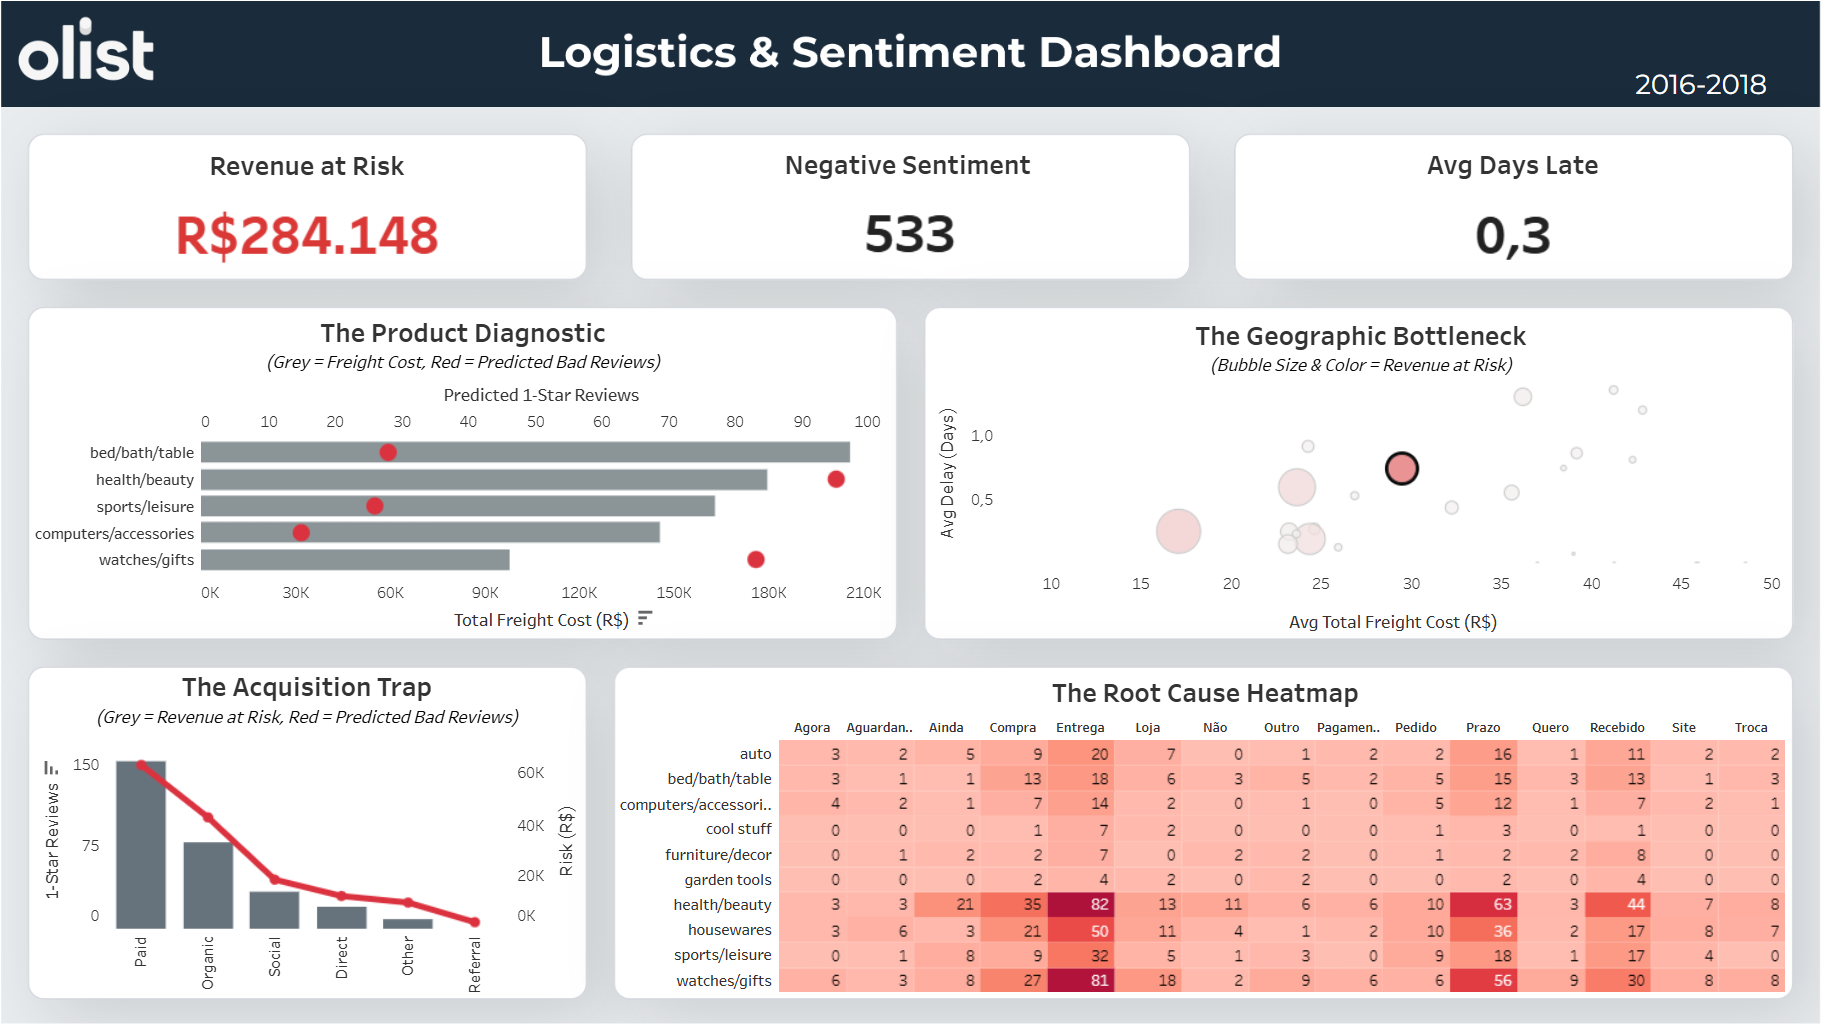

Layout of this report page (visuals, bound fields, positions):
{"tool":"tableau","page":{"name":"Final Dashboard","canvas":[1366,768],"ordinal":0},"visuals":[{"type":"image","param":"Image/Your paragraph text.png","box":[8,8,1350,752]},{"type":"text","box":[1210,58,129,31]},{"type":"worksheet","title":"Total Critical Failures","mark":"Automatic","box":[479,109,406,105]},{"type":"worksheet","title":"Average Logistical Delay","mark":"Automatic","box":[919,110,404,103]},{"type":"worksheet","title":"Revenue at Risk","mark":"Automatic","box":[42,112,404,101]},{"type":"text","box":[42,235,631,53]},{"type":"text","box":[695,237,631,53]},{"type":"worksheet","title":"The Product Diagnostic","mark":"Bar","rows":["primary_product_category"],"cols":["total_freight_cost","predicted_bad"],"box":[43,288,619,188]},{"type":"worksheet","title":"The Geographic Conflict","mark":"Circle","rows":["capped_delay_days"],"cols":["total_freight_cost"],"box":[694,291,625,186]},{"type":"text","box":[469,498,857,32]},{"type":"text","box":[43,500,402,61]},{"type":"worksheet","title":"The Root Cause Heatmap","mark":"Square","rows":["primary_product_category"],"box":[467,530,852,203]},{"type":"worksheet","title":"The Acquisition Trap","mark":"Automatic","rows":["predicted_bad","revenue_at_risk"],"box":[43,559,403,178]}]}

Visuals, with their boxes in screenshot pixels (x1, y1, x2, y2), scaled from the page's 1366x768 canvas onto the 1821x1027 screenshot:
image: {"left": 11, "top": 11, "right": 1810, "bottom": 1016}
text: {"left": 1613, "top": 78, "right": 1785, "bottom": 119}
"Total Critical Failures" worksheet: {"left": 639, "top": 146, "right": 1180, "bottom": 286}
"Average Logistical Delay" worksheet: {"left": 1225, "top": 147, "right": 1764, "bottom": 285}
"Revenue at Risk" worksheet: {"left": 56, "top": 150, "right": 595, "bottom": 285}
text: {"left": 56, "top": 314, "right": 897, "bottom": 385}
text: {"left": 926, "top": 317, "right": 1768, "bottom": 388}
"The Product Diagnostic" worksheet (Bar marks): {"left": 57, "top": 385, "right": 883, "bottom": 637}
"The Geographic Conflict" worksheet (Circle marks): {"left": 925, "top": 389, "right": 1758, "bottom": 638}
text: {"left": 625, "top": 666, "right": 1768, "bottom": 709}
text: {"left": 57, "top": 669, "right": 593, "bottom": 750}
"The Root Cause Heatmap" worksheet (Square marks): {"left": 623, "top": 709, "right": 1758, "bottom": 980}
"The Acquisition Trap" worksheet: {"left": 57, "top": 748, "right": 595, "bottom": 986}
